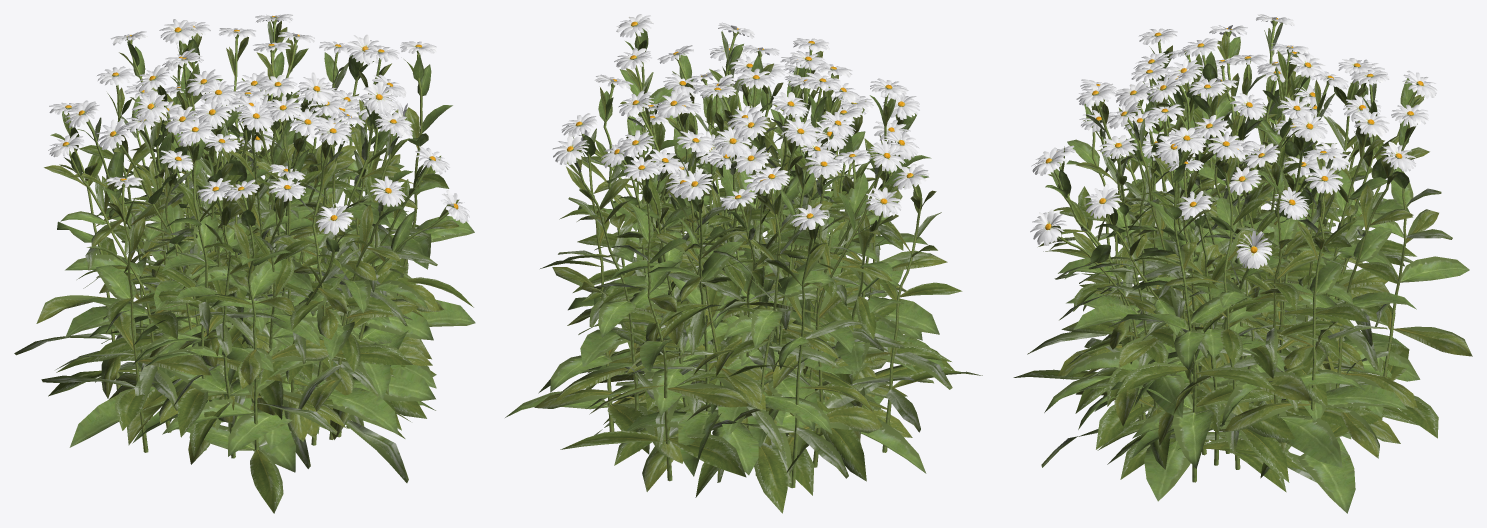
The model's file is chamomile.glb.
3 views of the same model, side by side, from view 1: azimuth 30°, elevation 25°; view 2: azimuth 150°, elevation 25°; view 3: azimuth 270°, elevation 25° (orthographic).
Visible parts, largest first — view 1: Chamomile_Bush3; view 2: Chamomile_Bush3; view 3: Chamomile_Bush3.
Boxes of the visible parts, x1=… form: Chamomile_Bush3: x1=14, y1=14, x2=475, y2=513; Chamomile_Bush3: x1=505, y1=14, x2=982, y2=513; Chamomile_Bush3: x1=1013, y1=14, x2=1472, y2=513.
Bounding box in the file's own units: 0.8323 × 0.7333 × 0.8119.
2 materials, 2 textured.
